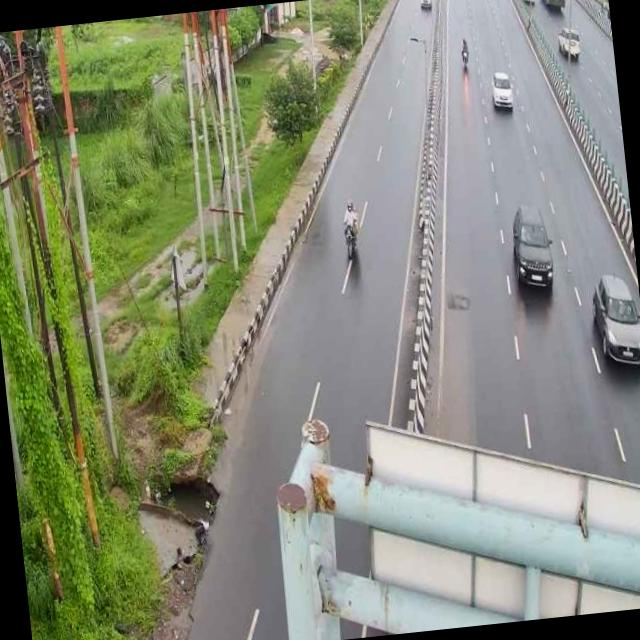car: (500, 194, 563, 303), (583, 265, 640, 377), (486, 63, 518, 117), (556, 22, 586, 64)
